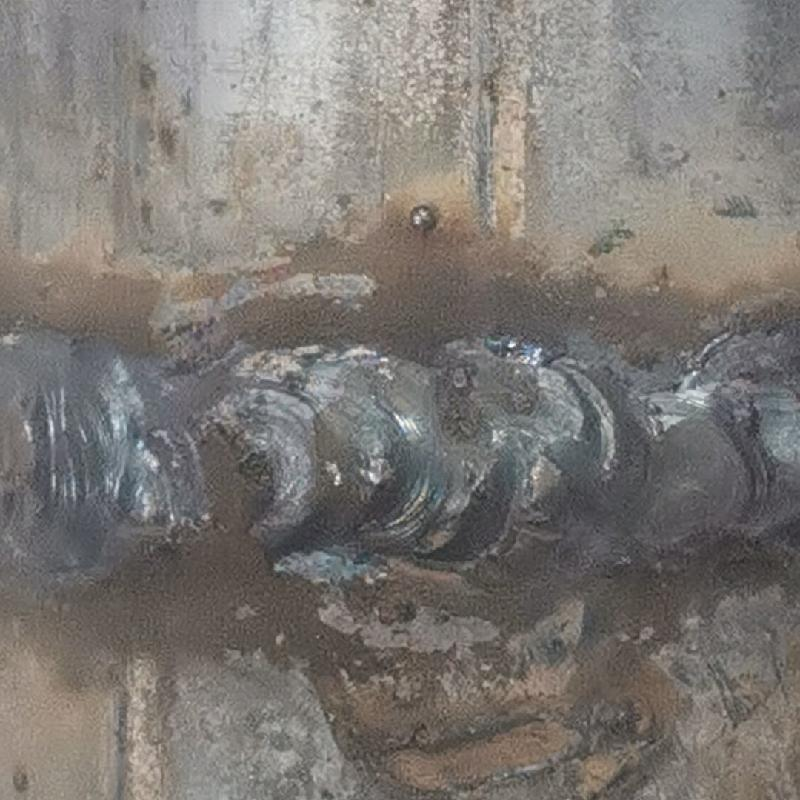good: (1, 309, 799, 570)
